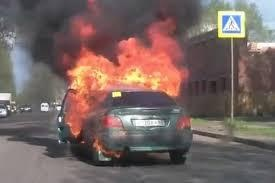fire: (65, 20, 192, 153)
